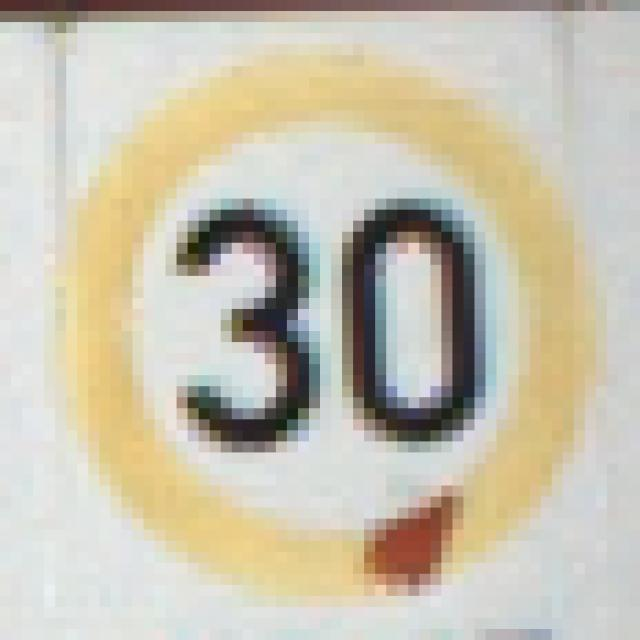Speed Limit -30-: (55, 55, 563, 563)
